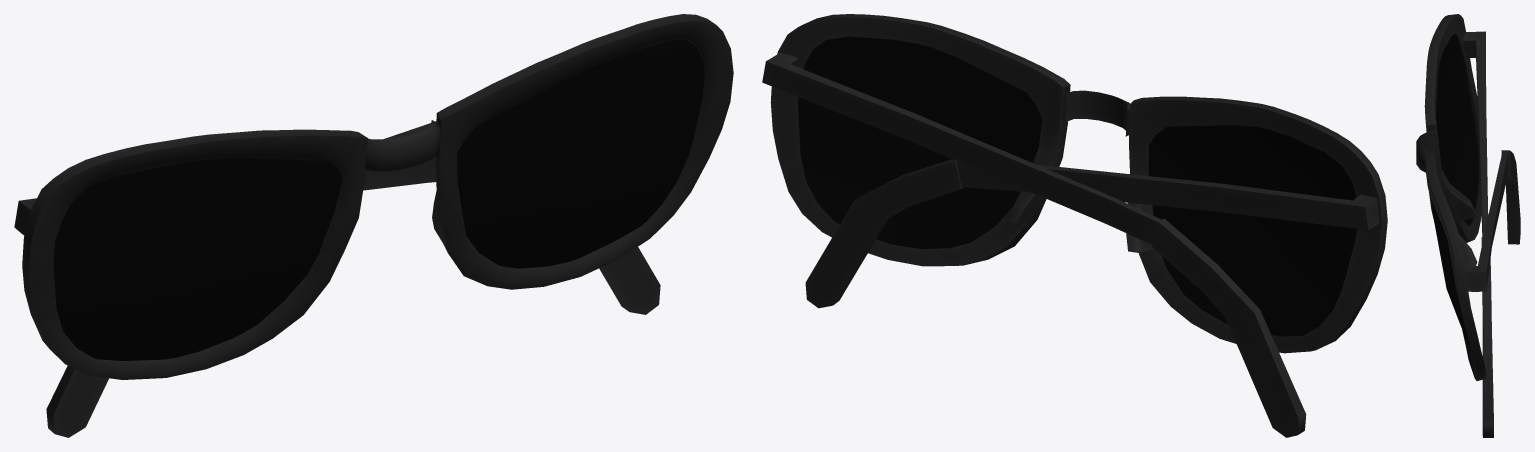
File: shades.DAE
The picture shows the model from 3 angles, left to right: view 1: azimuth 30°, elevation 25°; view 2: azimuth 150°, elevation 25°; view 3: azimuth 270°, elevation 25°; orthographic projection. The views are drawn at different scales.
Parts seen in each view (by area): view 1: lenses, Object001; view 2: Object001, lenses; view 3: Object001, lenses.
Part boxes in pixels (left/top/right/bottom): lenses: left=53, top=40, right=704, bottom=360; Object001: left=14, top=14, right=733, bottom=437; Object001: left=762, top=14, right=1387, bottom=437; lenses: left=798, top=36, right=1356, bottom=336; Object001: left=1416, top=14, right=1520, bottom=437; lenses: left=1432, top=33, right=1478, bottom=352.
Bounding box in the file's own units: 9.8 × 4.24 × 1.77.
